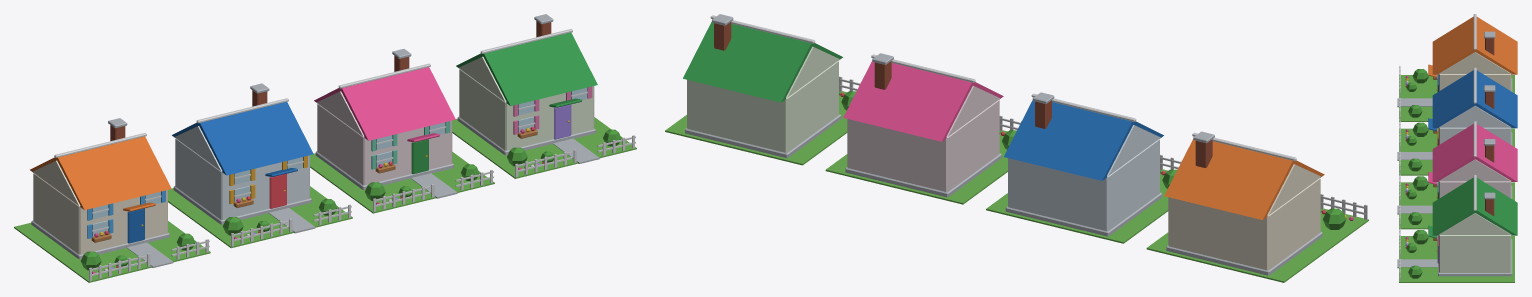
File: town-homes.glb
3 renders of one model, left to right at view 1: azimuth 30°, elevation 25°; view 2: azimuth 150°, elevation 25°; view 3: azimuth 270°, elevation 25°, orthographic. The views are drawn at different scales.
Visible parts, largest first — view 1: house_a_mesh, house_d_mesh, house_c_mesh, house_b_mesh; view 2: house_a_mesh, house_c_mesh, house_d_mesh, house_b_mesh; view 3: house_d_mesh, house_b_mesh, house_c_mesh, house_a_mesh.
Part boxes in pixels (x1,y1,x2,y2): house_a_mesh: (14,118,210,282); house_d_mesh: (452,14,636,178); house_c_mesh: (310,49,494,213); house_b_mesh: (168,83,352,248); house_a_mesh: (1146,131,1368,282); house_c_mesh: (825,53,1021,204); house_d_mesh: (665,14,860,165); house_b_mesh: (986,92,1181,243); house_d_mesh: (1397,175,1517,282); house_b_mesh: (1397,67,1517,175); house_c_mesh: (1397,121,1517,229); house_a_mesh: (1397,14,1517,121).
Bounding box in the file's own units: 27 × 4.66 × 6.65.
